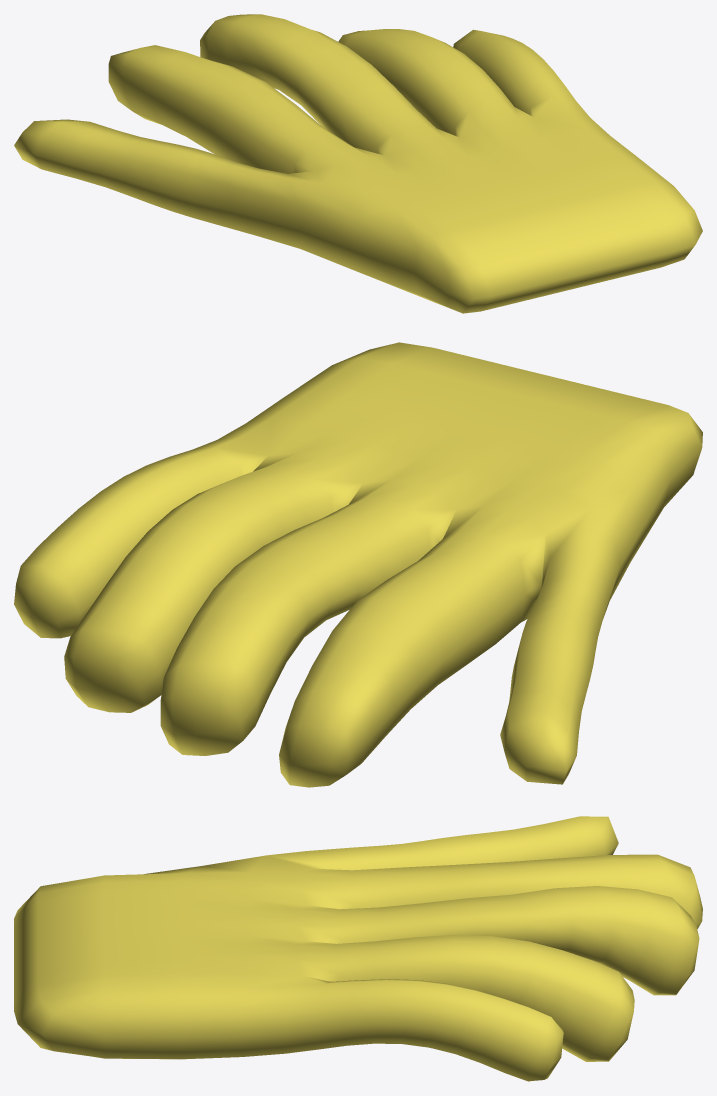
Rendered from Hand.fbx.
3 renders of one model, top to bottom at view 1: azimuth 30°, elevation 25°; view 2: azimuth 150°, elevation 25°; view 3: azimuth 270°, elevation 25°, orthographic. The views are drawn at different scales.
Parts seen in each view (by area): view 1: Hand; view 2: Hand; view 3: Hand.
Part boxes in pixels (box(x1,y1,x2,y2)): Hand: box(14, 14, 702, 313); Hand: box(14, 342, 702, 787); Hand: box(14, 816, 702, 1081).
Bounding box in the file's own units: 757 × 170 × 938.
